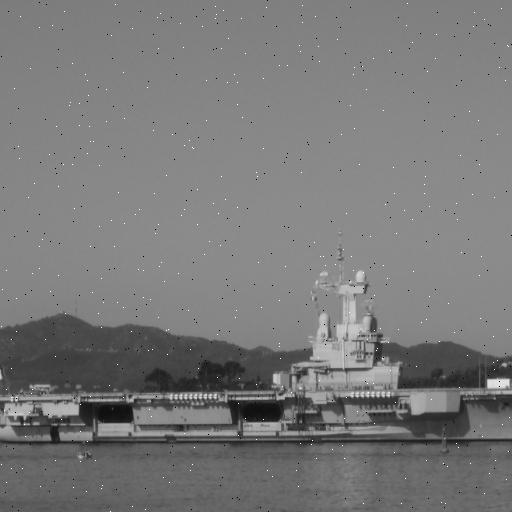Portanaves: (1, 236, 512, 450)
